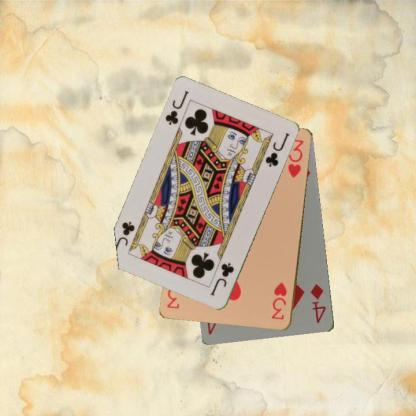3h: (269, 280, 288, 321)
4d: (308, 281, 328, 325)
Jc: (208, 260, 236, 298), (162, 89, 190, 127)
